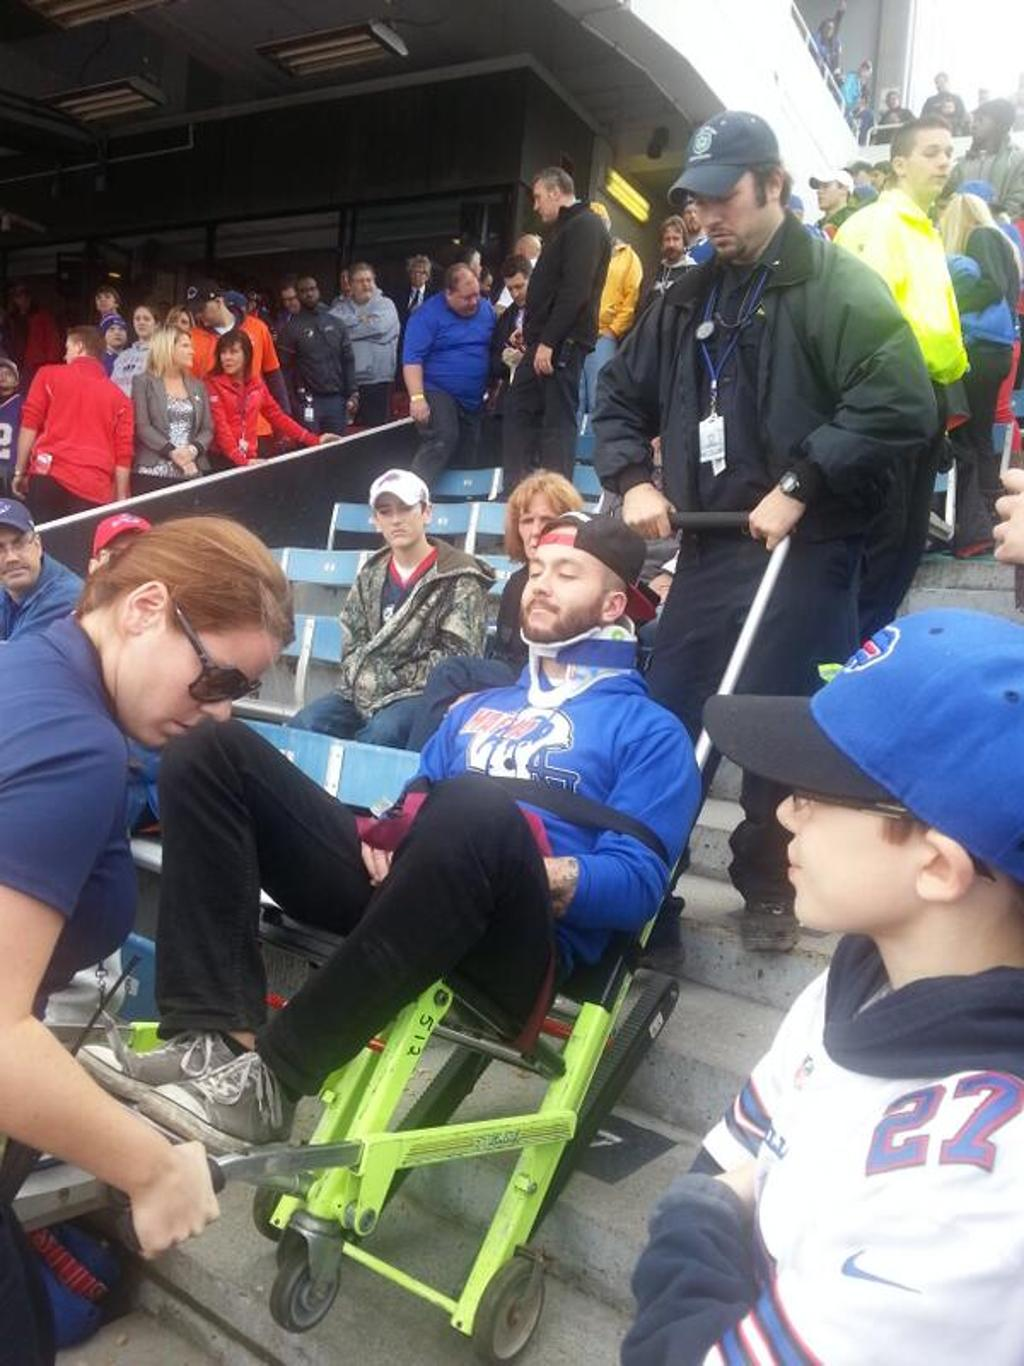face: (776, 733, 922, 931), (111, 626, 282, 747), (521, 544, 607, 637), (691, 174, 768, 260), (517, 493, 566, 561), (905, 129, 953, 197), (375, 487, 423, 549), (1, 525, 41, 589), (450, 276, 480, 317), (504, 272, 531, 308), (532, 180, 554, 222), (970, 112, 997, 145), (171, 332, 195, 368), (350, 269, 375, 299), (220, 342, 244, 374), (817, 180, 842, 209), (133, 306, 155, 338), (661, 227, 682, 260), (296, 278, 318, 308), (194, 299, 216, 326), (169, 310, 190, 338), (683, 203, 703, 232), (62, 337, 82, 367), (105, 321, 126, 347), (281, 288, 301, 315), (588, 214, 609, 239), (783, 207, 802, 229), (409, 262, 427, 286), (95, 291, 115, 311), (480, 273, 492, 295), (159, 304, 167, 317)
